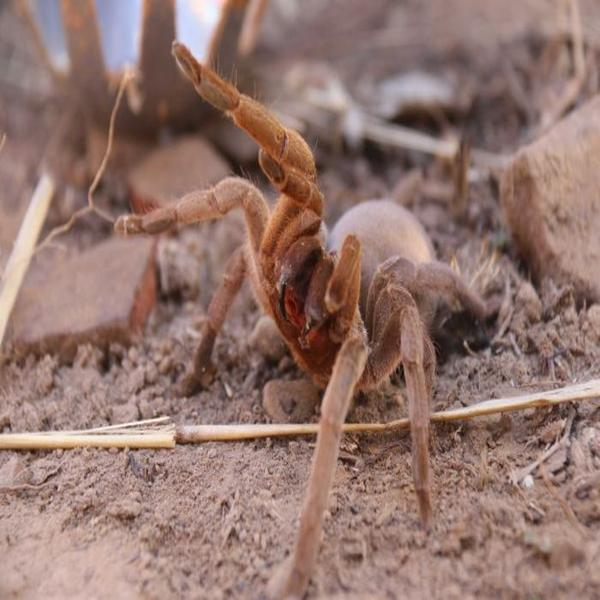Tarantula Spider: (143, 48, 482, 564)
